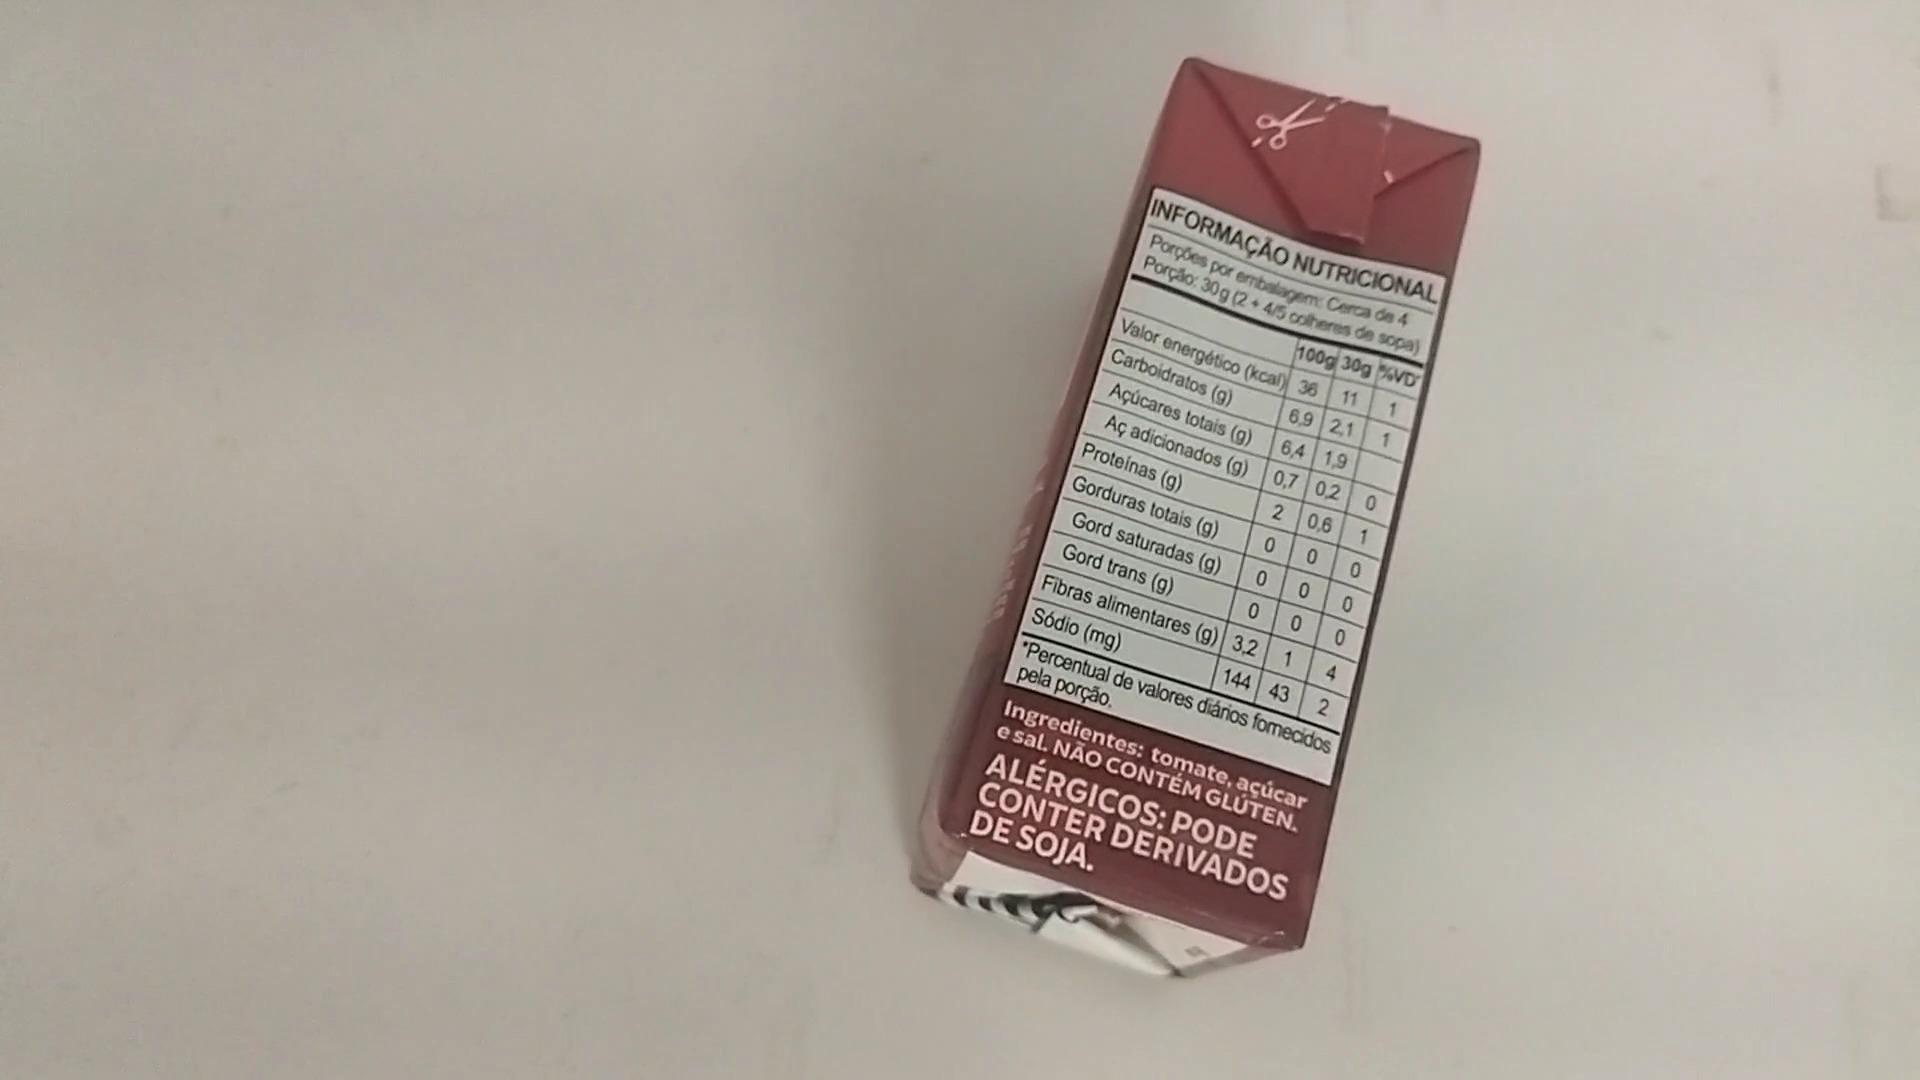tomate: (915, 57, 1478, 978)
